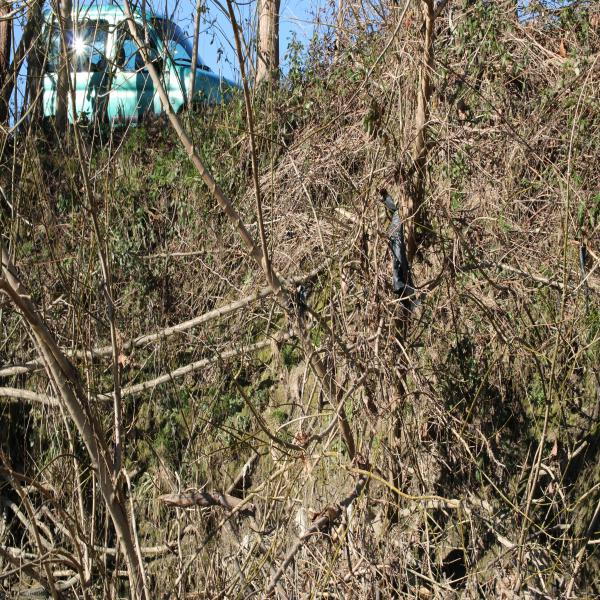fragments: (380, 185, 420, 311)
